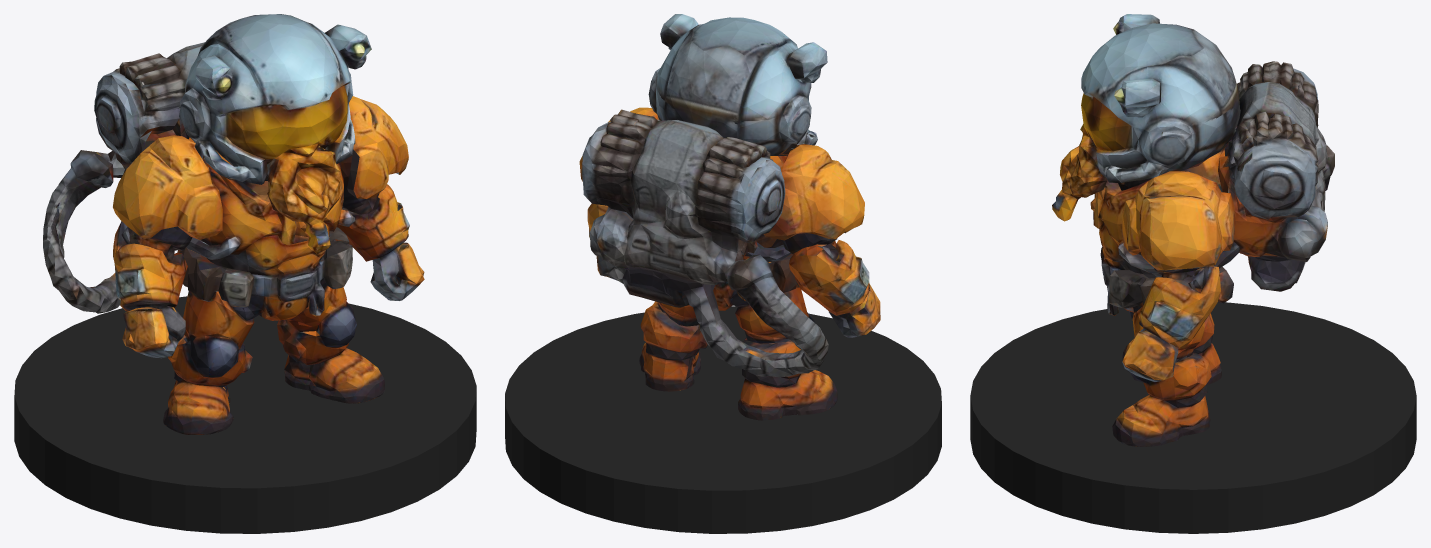
File: hk-gunner.glb
The picture shows the model from 3 angles, left to right: view 1: azimuth 30°, elevation 25°; view 2: azimuth 150°, elevation 25°; view 3: azimuth 270°, elevation 25°; orthographic projection. The views are drawn at different scales.
Parts seen in each view (by area): view 1: figure, base; view 2: figure, base; view 3: base, figure.
Boxes of the visible parts, box(x1,y1,x2,y2) form: figure: box(43, 14, 424, 434); base: box(14, 296, 476, 533); figure: box(579, 14, 880, 420); base: box(505, 306, 941, 533); base: box(970, 302, 1416, 533); figure: box(1052, 14, 1334, 446).
Bounding box in the file's own units: 1.1 × 1.12 × 1.1.
Materials: 2 (1 with a texture image).
